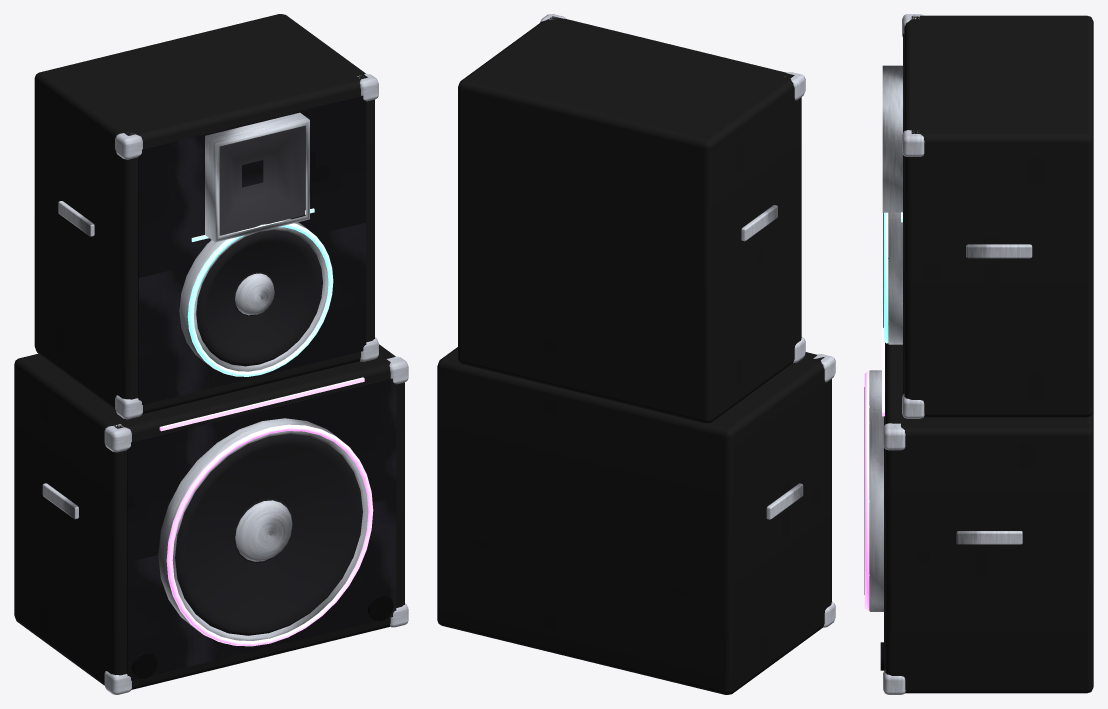
File: prop_speaker.glb
The picture shows the model from 3 angles, left to right: view 1: azimuth 30°, elevation 25°; view 2: azimuth 150°, elevation 25°; view 3: azimuth 270°, elevation 25°; orthographic projection.
Parts seen in each view (by area): view 1: prop; view 2: prop; view 3: prop.
Part boxes in pixels (x1,y1,x2,y2): prop: [14, 14, 408, 694]; prop: [437, 14, 835, 694]; prop: [864, 14, 1093, 694].
Size of what is drawn, in the model's own units: 0.744 by 1.28 by 0.485.
8 materials, 5 textured.
